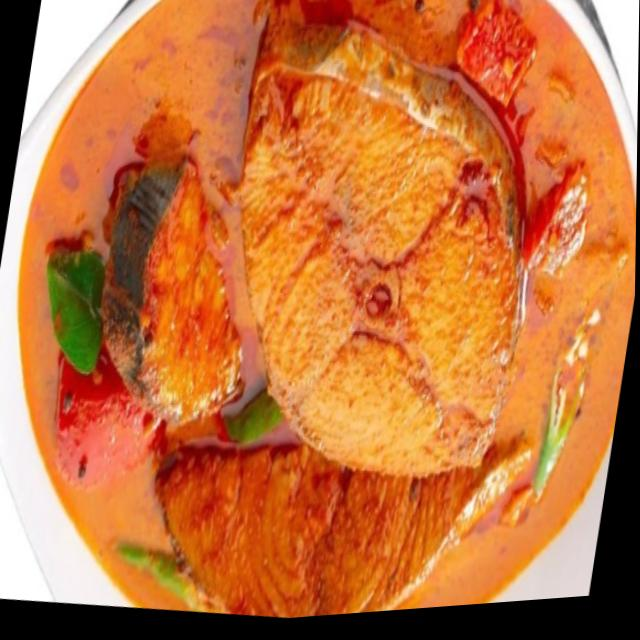FISH CURRY: (18, 0, 636, 618)
